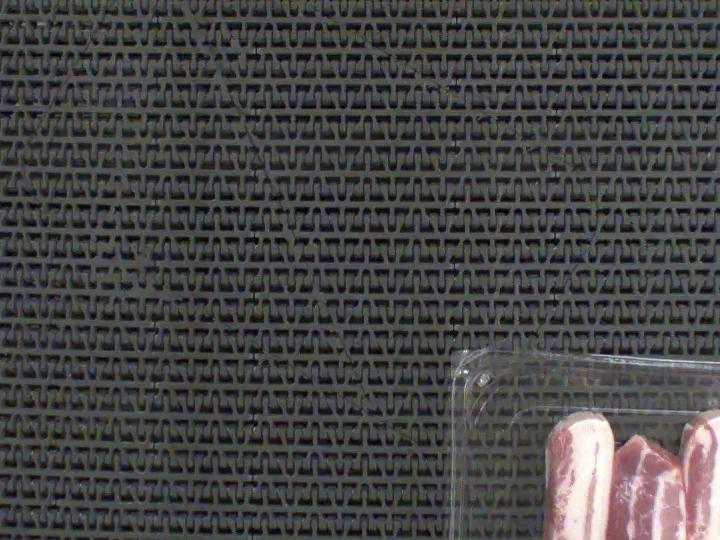packaging-error: (703, 381, 720, 421)
